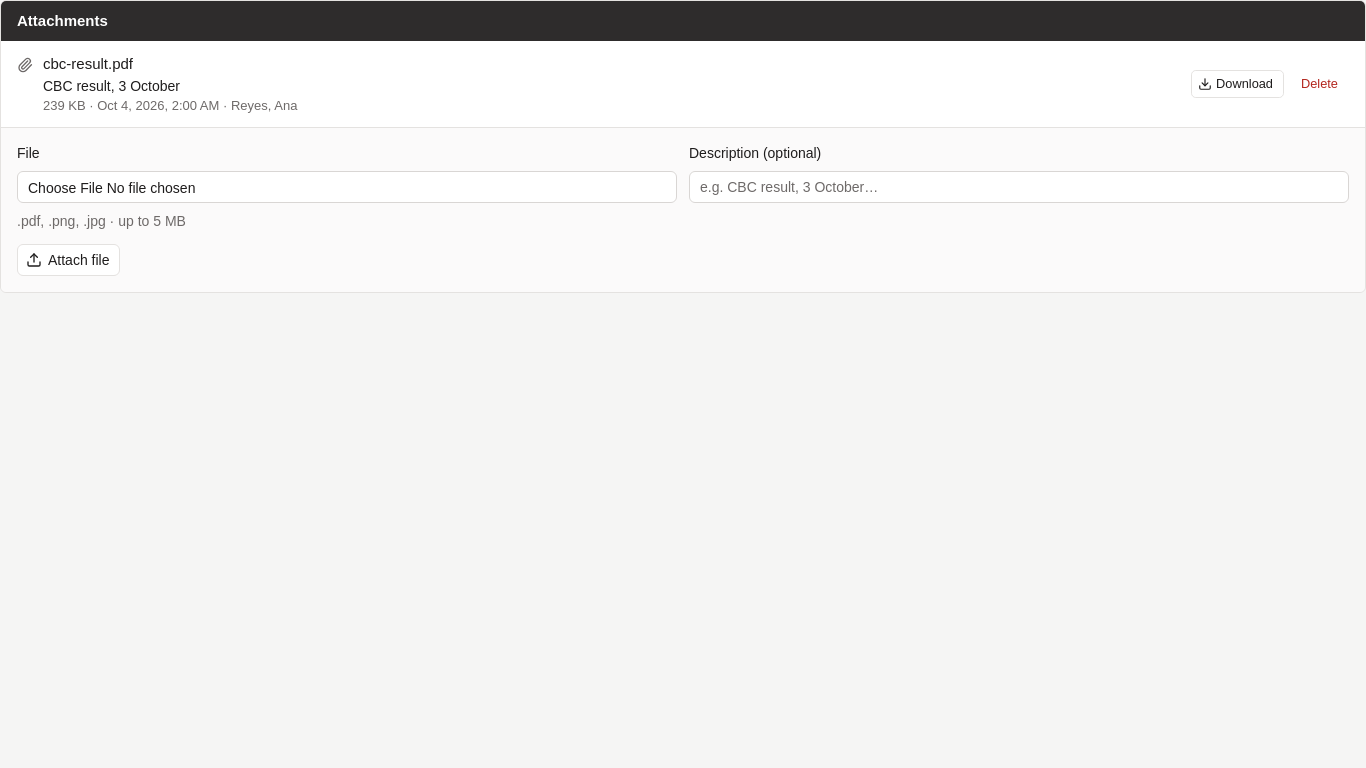
Test: the coordinator deletes a file after confirmation
Click the button with aria-label "Delete cbc-result.pdf" at (1320, 84), box left=1290, top=70, right=1349, bottom=98
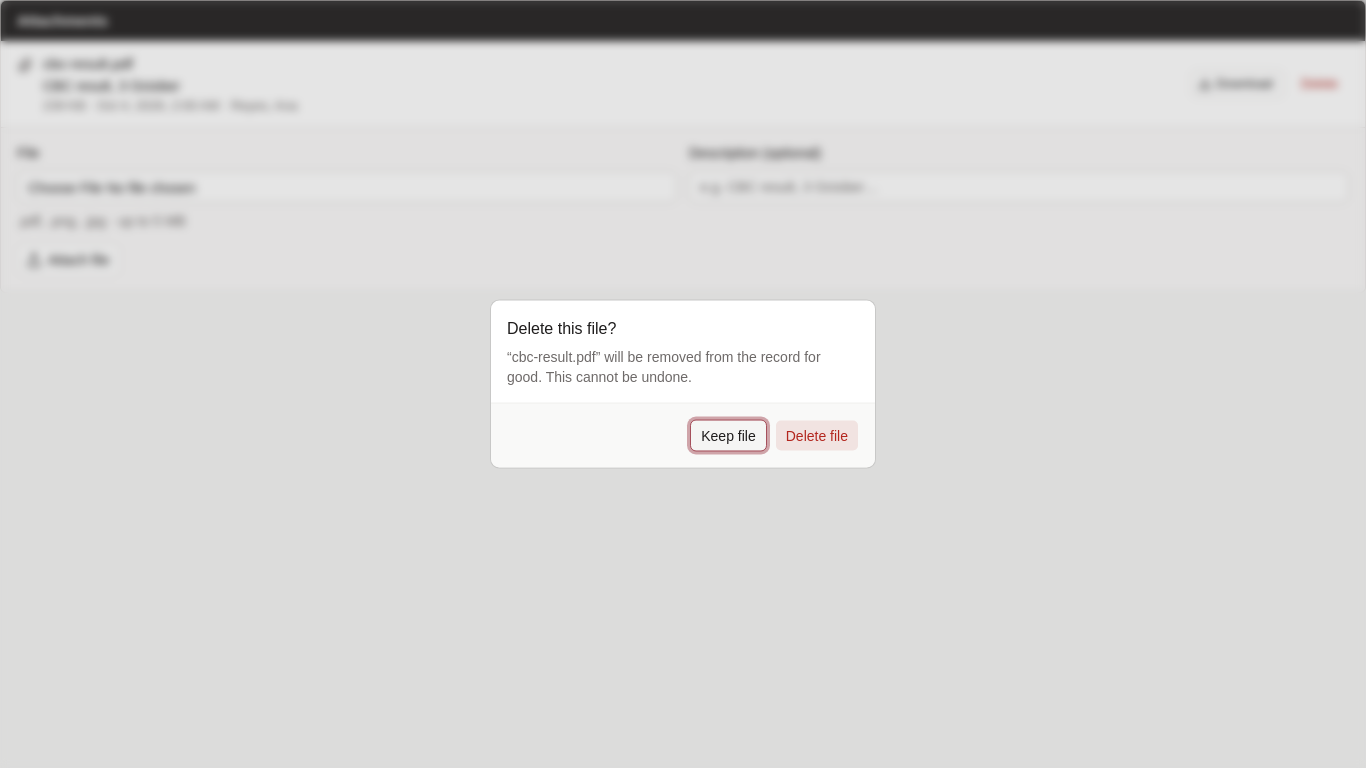
Now the text "cannot be undone" is shown, box left=507, top=348, right=821, bottom=384
Click the button "Delete file" at (817, 436), box left=775, top=420, right=859, bottom=452
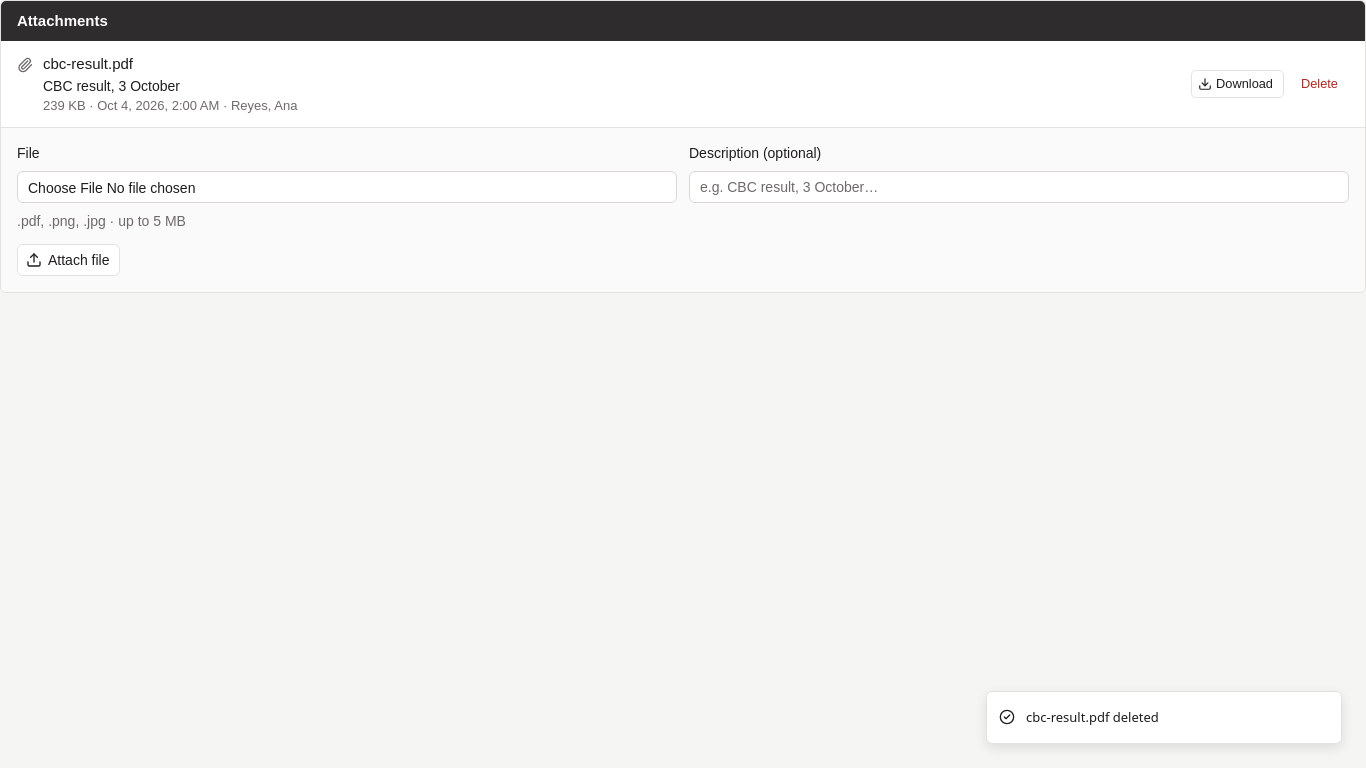
Now the text "cbc-result.pdf deleted" is shown, box left=1026, top=708, right=1159, bottom=727
